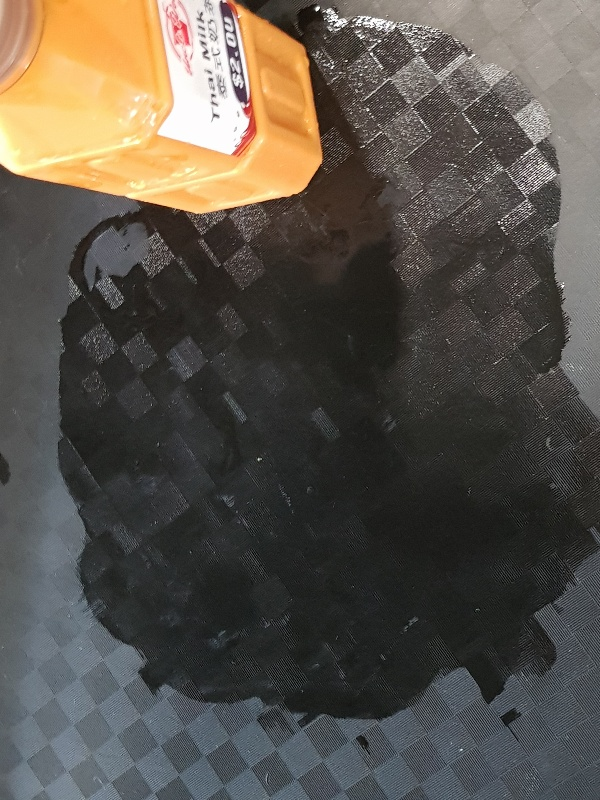Thai Milk Tea: (1, 1, 324, 216)
